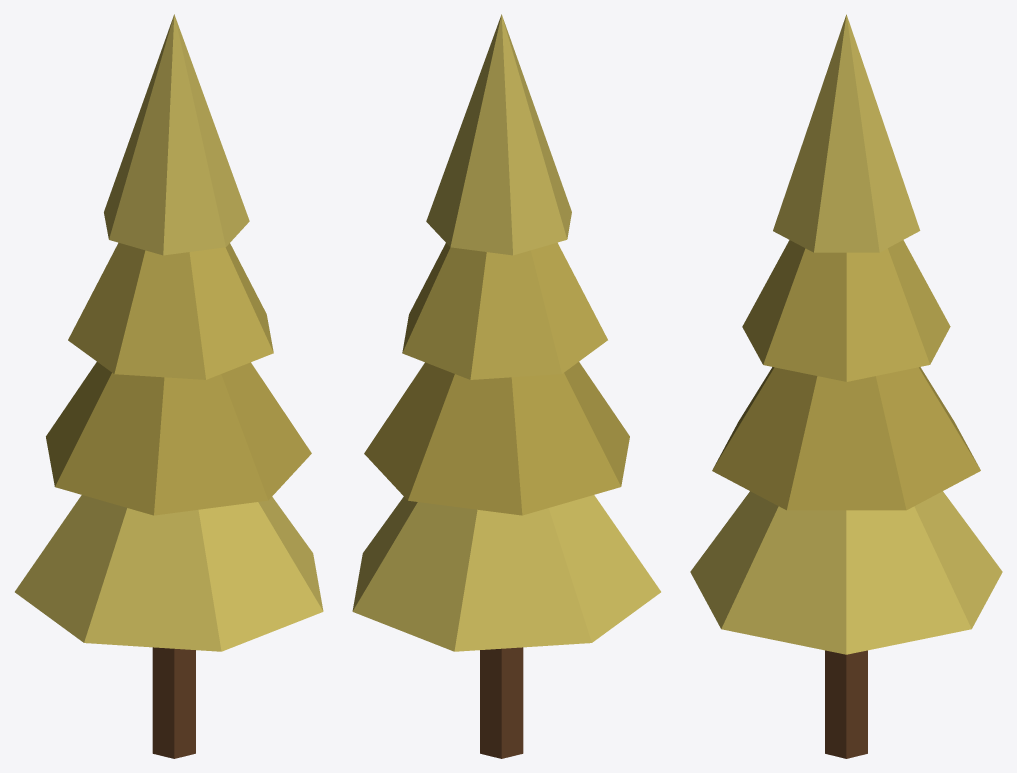
The model's file is SM_PineB_Y.obj.
The picture shows the model from 3 angles, left to right: view 1: azimuth 30°, elevation 25°; view 2: azimuth 150°, elevation 25°; view 3: azimuth 270°, elevation 25°; orthographic projection.
Visible parts, largest first — view 1: SM_PineB_Y; view 2: SM_PineB_Y; view 3: SM_PineB_Y.
Boxes of the visible parts, x1,y1,x2,y2 form: SM_PineB_Y: (15,14,323,758); SM_PineB_Y: (352,14,660,758); SM_PineB_Y: (690,14,1002,758).
Bounding box in the file's own units: 3.42 × 9.1 × 3.51.
Materials: 1 (1 with a texture image).
